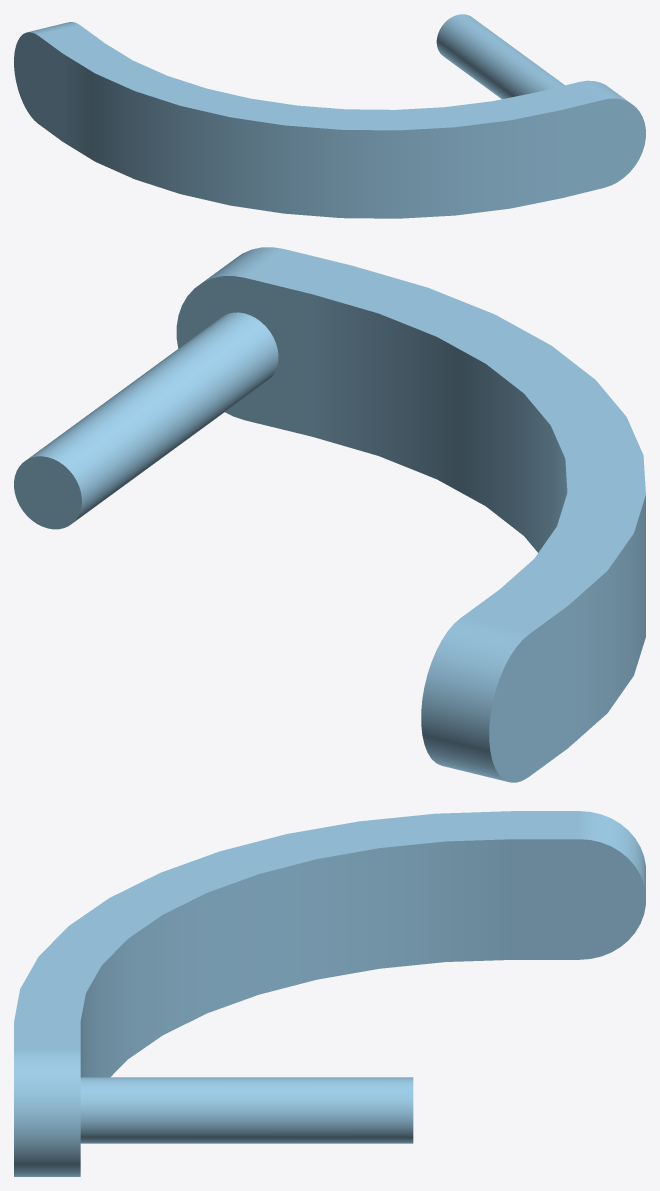
The model's file is GimbalUpperArm.dae.
3 views of the same model, one above another, from view 1: azimuth 30°, elevation 25°; view 2: azimuth 150°, elevation 25°; view 3: azimuth 270°, elevation 25° (orthographic). The views are drawn at different scales.
Parts seen in each view (by area): view 1: ID2; view 2: ID2; view 3: ID2.
Part boxes in pixels (bbox=[...]): ID2: bbox=[14, 14, 645, 218]; ID2: bbox=[14, 247, 645, 782]; ID2: bbox=[14, 811, 645, 1176].
Bounding box in the file's own units: 0.1899 × 0.1899 × 0.04.
